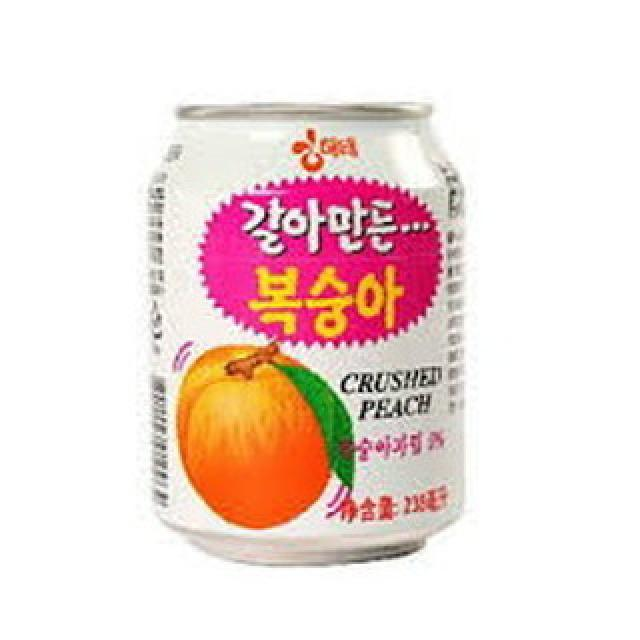can: (111, 94, 474, 566)
